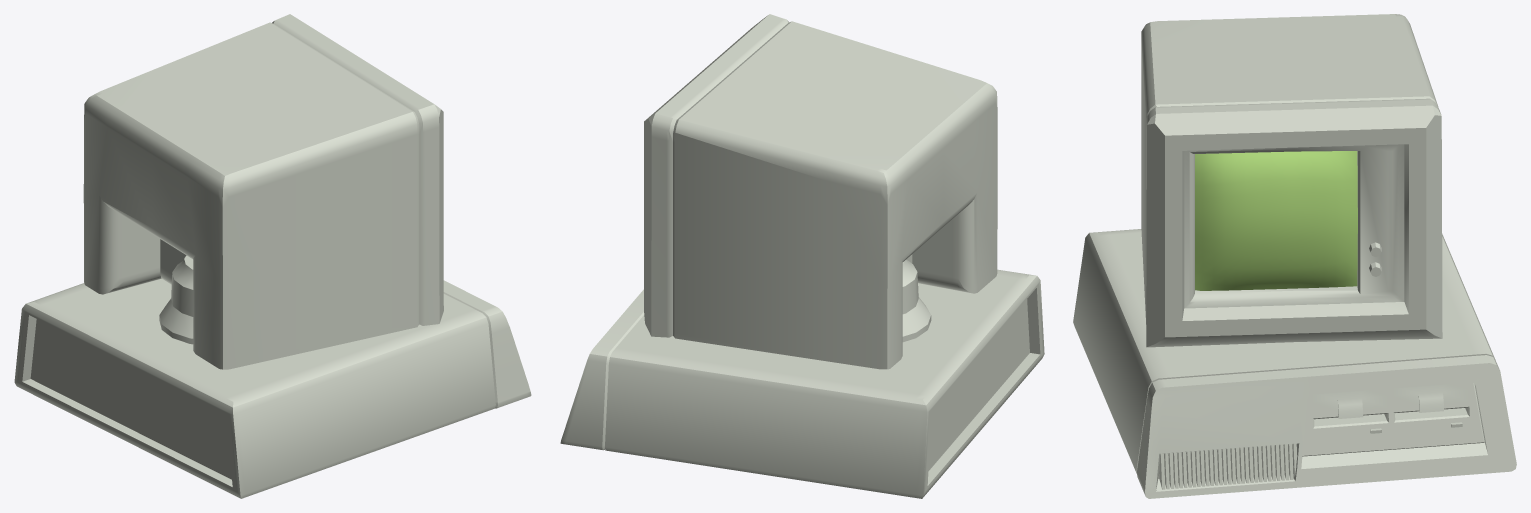
File: OldComputer.fbx
The picture shows the model from 3 angles, left to right: view 1: azimuth 30°, elevation 25°; view 2: azimuth 150°, elevation 25°; view 3: azimuth 270°, elevation 25°; orthographic projection. The views are drawn at different scales.
Visible parts, largest first — view 1: computer; view 2: computer; view 3: computer.
Boxes of the visible parts, bbox=[...] form: computer: bbox=[14, 14, 531, 498]; computer: bbox=[560, 14, 1044, 498]; computer: bbox=[1073, 14, 1516, 498].
Size of the model in its own units: 85.54 by 67.56 by 80.74.
